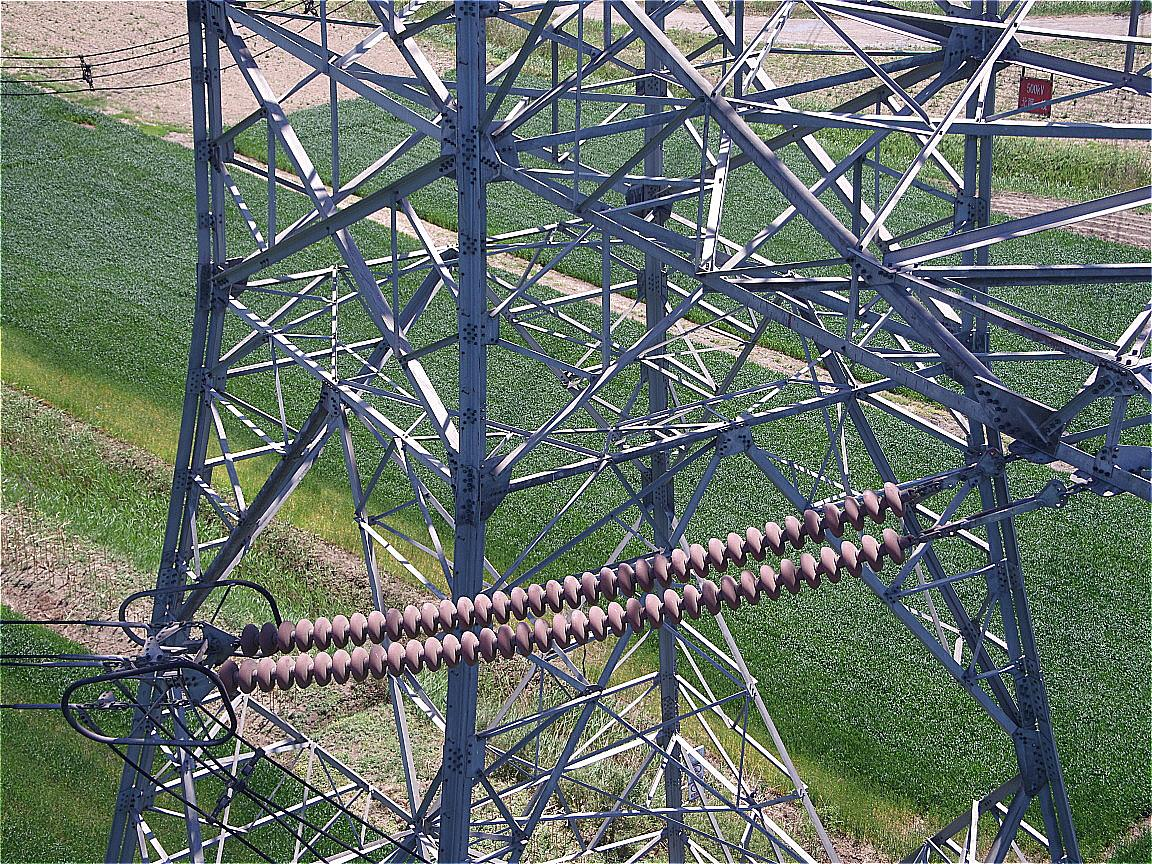insultor1: (180, 467, 950, 704)
